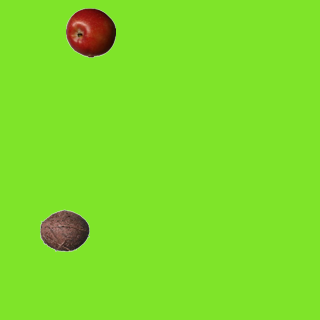Apple Braeburn: (65, 7, 115, 57)
Cocos: (39, 205, 89, 255)
